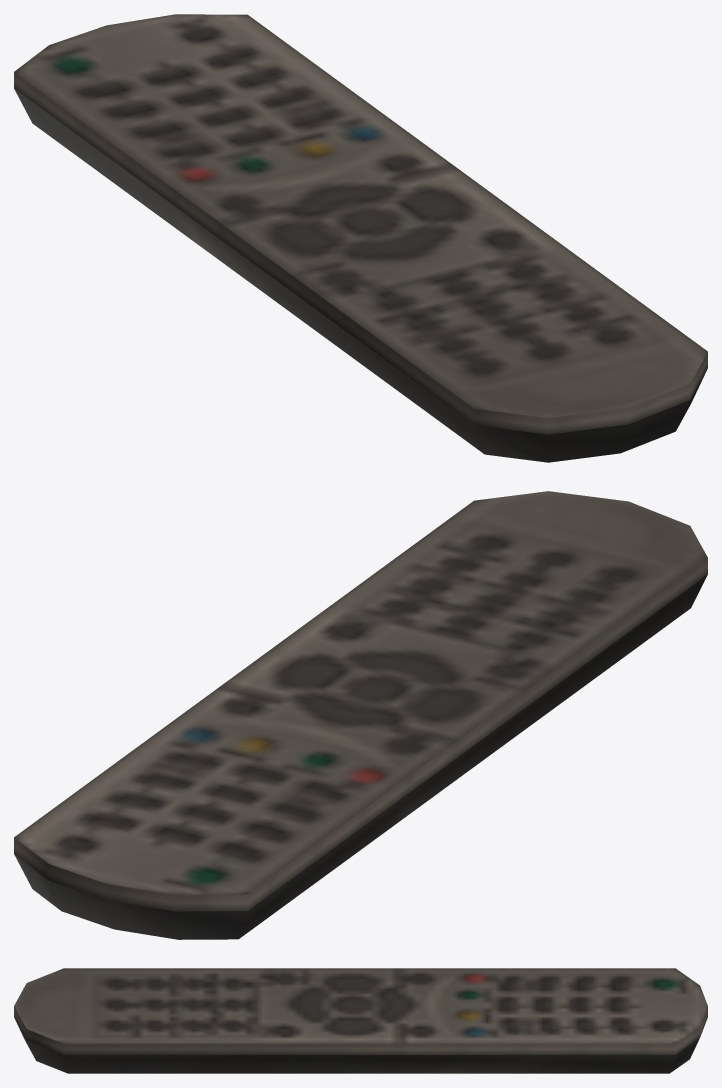
File: tv_remote_mp_1.obj
The picture shows the model from 3 angles, top to bottom: view 1: azimuth 30°, elevation 25°; view 2: azimuth 150°, elevation 25°; view 3: azimuth 270°, elevation 25°; orthographic projection. The views are drawn at different scales.
Visible parts, largest first — view 1: tv_remote_mp_1; view 2: tv_remote_mp_1; view 3: tv_remote_mp_1.
Part boxes in pixels (x1,y1,x2,y2): tv_remote_mp_1: [14, 14, 707, 462]; tv_remote_mp_1: [14, 491, 707, 939]; tv_remote_mp_1: [14, 968, 707, 1073].
Size of the model in its own units: 0.074 by 0.02 by 0.2862.
